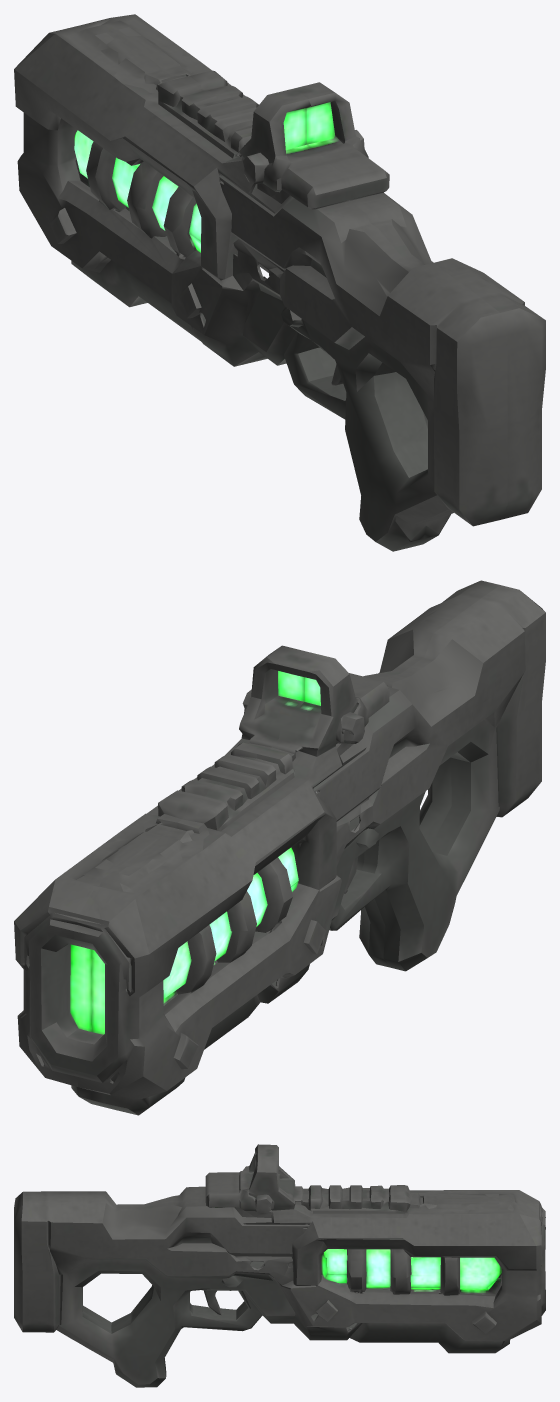
The model's file is plasma_rifle.glb.
The picture shows the model from 3 angles, top to bottom: view 1: azimuth 30°, elevation 25°; view 2: azimuth 150°, elevation 25°; view 3: azimuth 270°, elevation 25°; orthographic projection. The views are drawn at different scales.
Parts seen in each view (by area): view 1: plasma_rifle_world; view 2: plasma_rifle_world; view 3: plasma_rifle_world.
Boxes of the visible parts, <box> form: plasma_rifle_world: <box>14,14,545,551</box>; plasma_rifle_world: <box>14,580,545,1115</box>; plasma_rifle_world: <box>14,1144,545,1387</box>.
Bounding box in the file's own units: 0.1615 × 0.4082 × 0.8532.
Materials: 1 (1 with a texture image).
